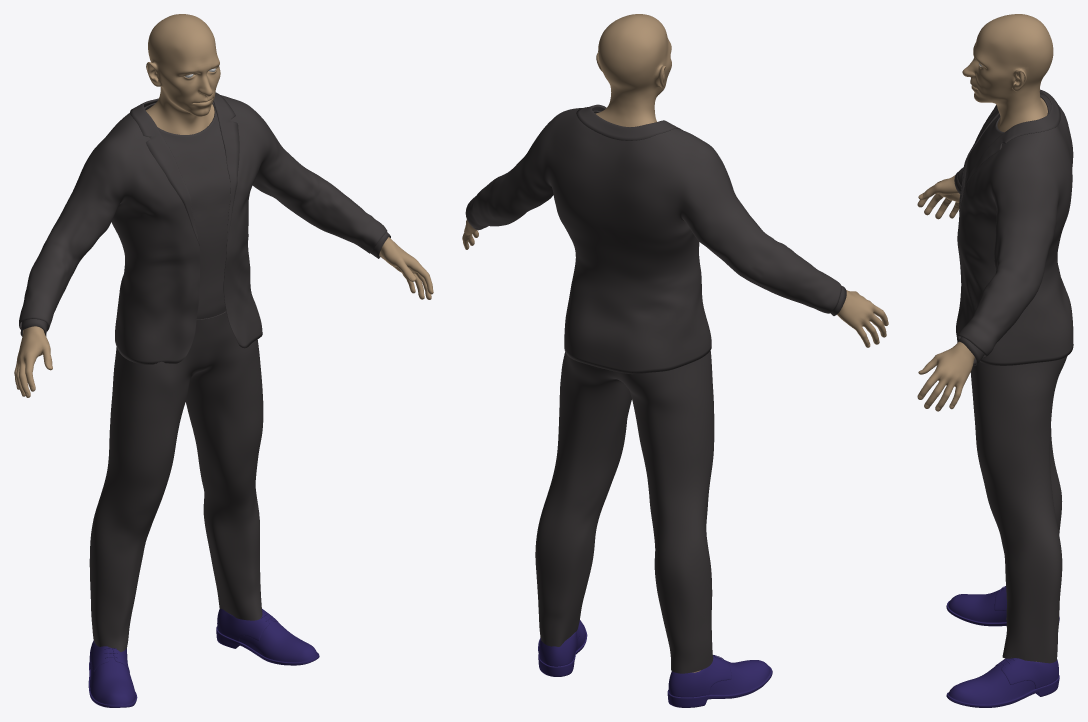
Rendered from character-transformed.glb.
3 renders of one model, left to right at view 1: azimuth 30°, elevation 25°; view 2: azimuth 150°, elevation 25°; view 3: azimuth 270°, elevation 25°, orthographic. The views are drawn at different scales.
Visible parts, largest first — view 1: HG_Eyes, HG_Dress_Pants_Male.001, HG_Body, HG_Leather_Dress_Shoe_Male.001; view 2: HG_Eyes, HG_Dress_Pants_Male.001, HG_Body, HG_Leather_Dress_Shoe_Male.001; view 3: HG_Eyes, HG_Dress_Pants_Male.001, HG_Body, HG_Leather_Dress_Shoe_Male.001.
Boxes of the visible parts, x1,y1,x2,y2 form: HG_Eyes: (19, 68, 390, 364); HG_Dress_Pants_Male.001: (89, 311, 263, 651); HG_Body: (14, 14, 433, 397); HG_Leather_Dress_Shoe_Male.001: (88, 608, 319, 707); HG_Eyes: (465, 104, 846, 374); HG_Dress_Pants_Male.001: (535, 351, 714, 673); HG_Body: (462, 14, 888, 672); HG_Leather_Dress_Shoe_Male.001: (538, 620, 772, 707); HG_Eyes: (954, 63, 1073, 365); HG_Dress_Pants_Male.001: (970, 356, 1067, 663); HG_Body: (917, 14, 1053, 661); HG_Leather_Dress_Shoe_Male.001: (946, 586, 1059, 707).
Size of the model in its own units: 1.19 by 1.8 by 0.3967.
5 materials, 5 textured.
